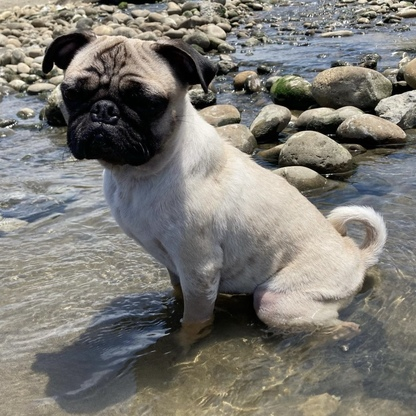Pug: (34, 29, 392, 355)
